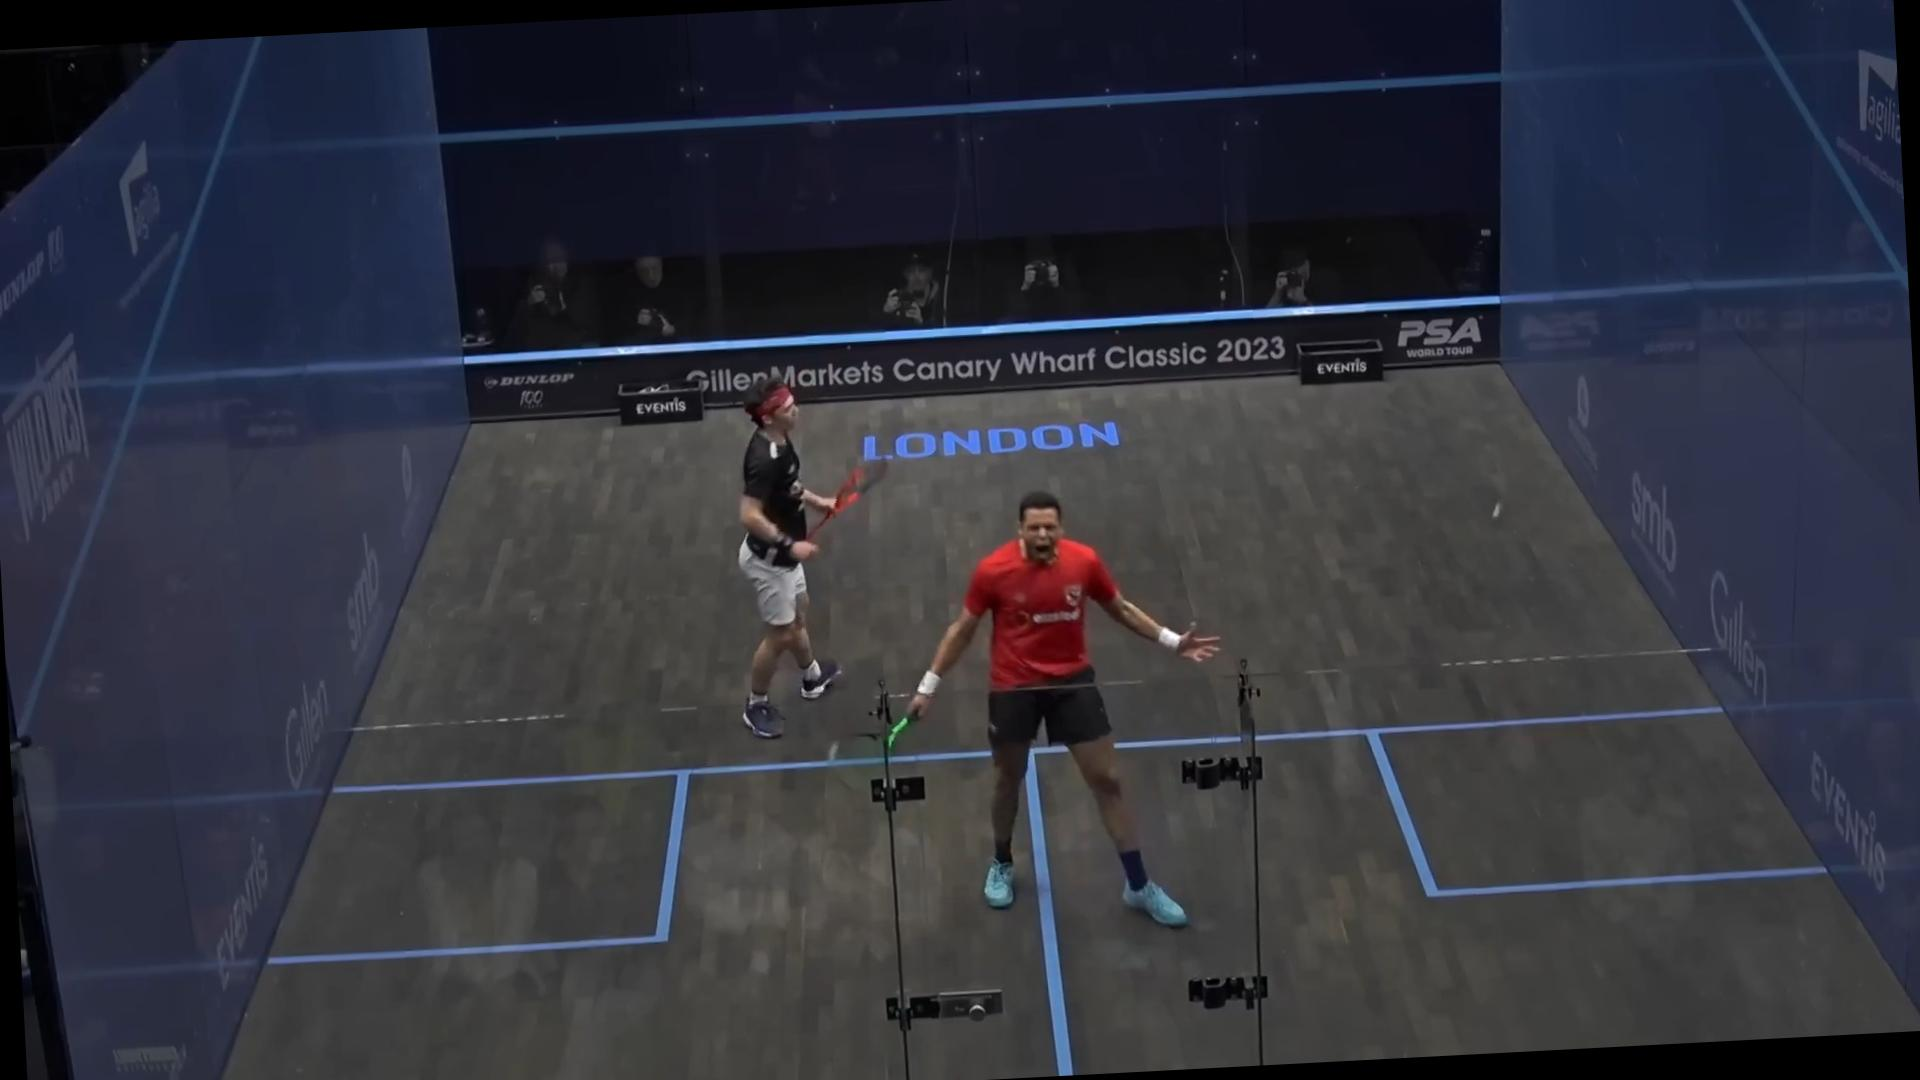Racket: (806, 450, 905, 545), (818, 713, 927, 798)
